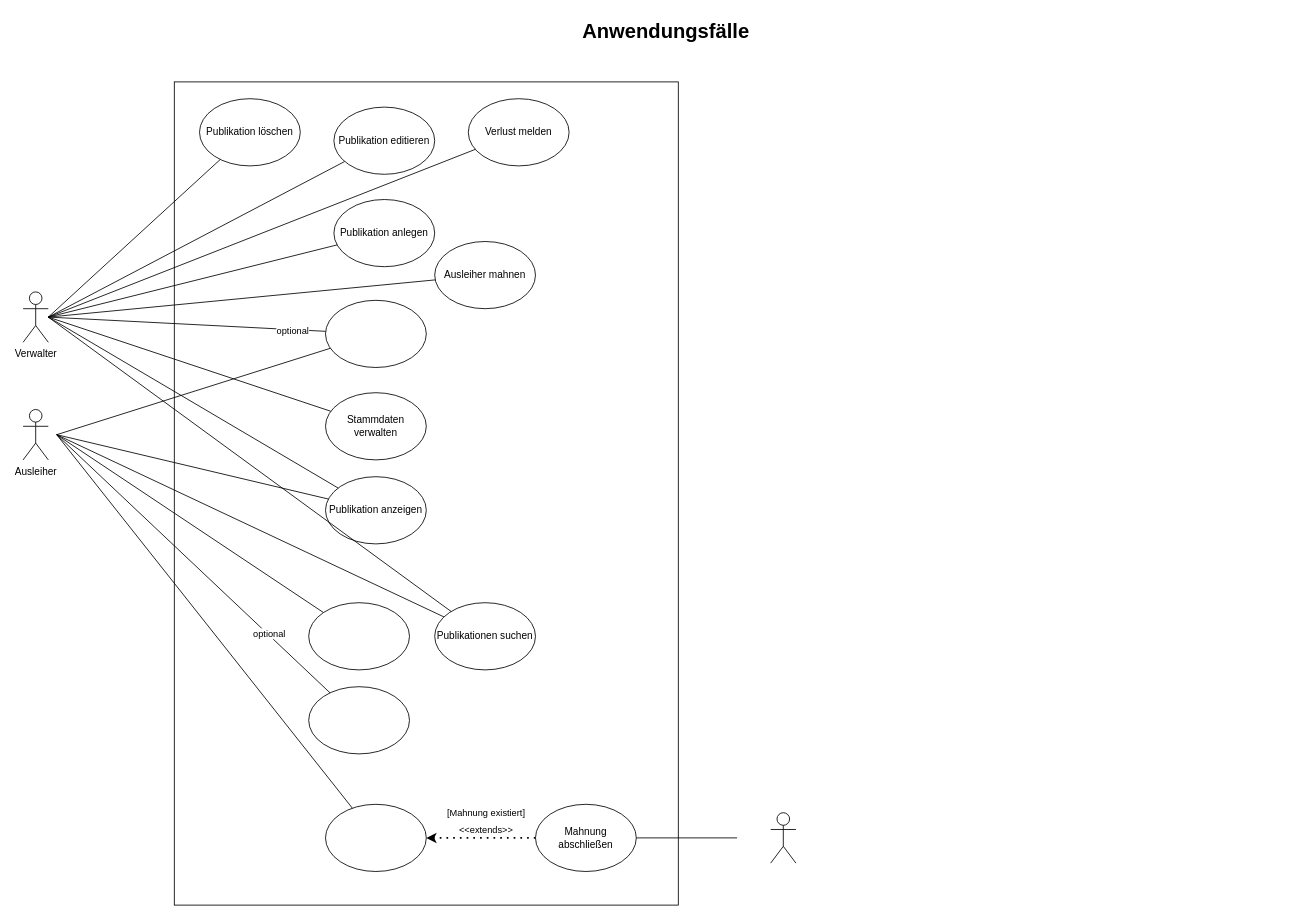
Some shapes in this 1314 by 920 pixel diagram are drawn without their labels. The centre of each missing label's shape, as x and y in pixels:
"Ausleihvorgänge einsehen" goes at point 375,333.
"Publikation ausleihen" goes at point 359,636.
"Publikation verlängern" goes at point 359,720.
"Publikation zurückgeben" goes at point 375,837.
"System" goes at point 783,837.
